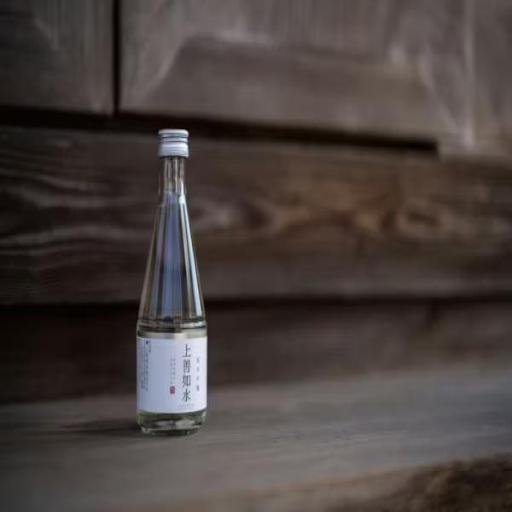bottle: (136, 116, 210, 444)
